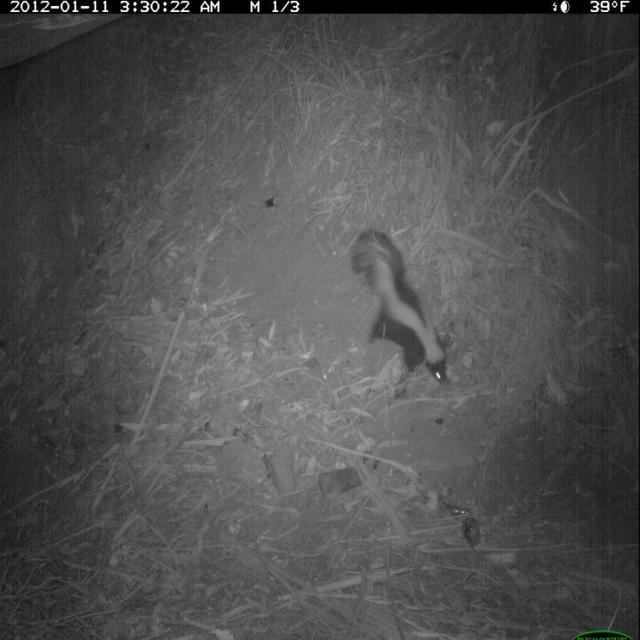skunk: (349, 217, 458, 399)
